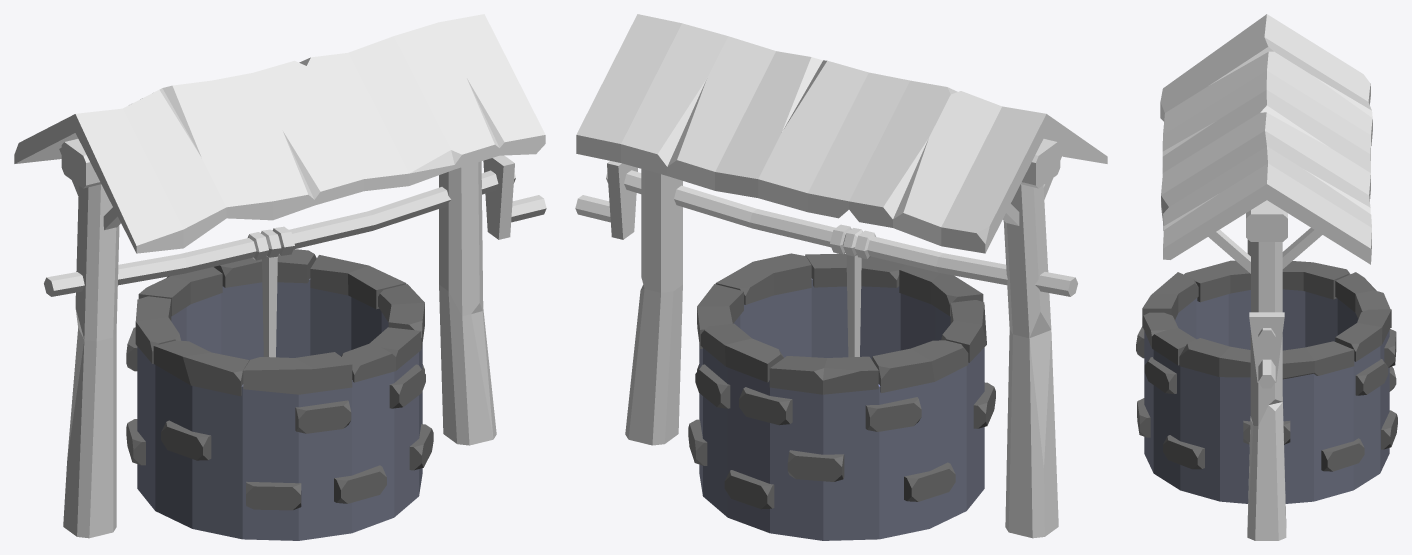
The model's file is Well M.fbx.
3 renders of one model, left to right at view 1: azimuth 30°, elevation 25°; view 2: azimuth 150°, elevation 25°; view 3: azimuth 270°, elevation 25°, orthographic. The views are drawn at different scales.
Visible parts, largest first — view 1: Well M; view 2: Well M; view 3: Well M.
Boxes of the visible parts, x1,y1,x2,y2 form: Well M: (14, 14, 546, 540); Well M: (575, 14, 1107, 540); Well M: (1136, 14, 1397, 540).
Bounding box in the file's own units: 2.65 × 2.16 × 1.43.
